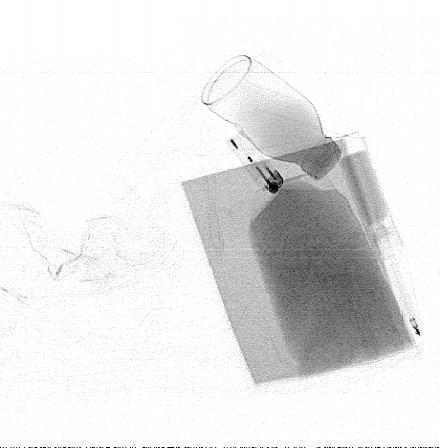Lighter: (228, 129, 285, 194)
